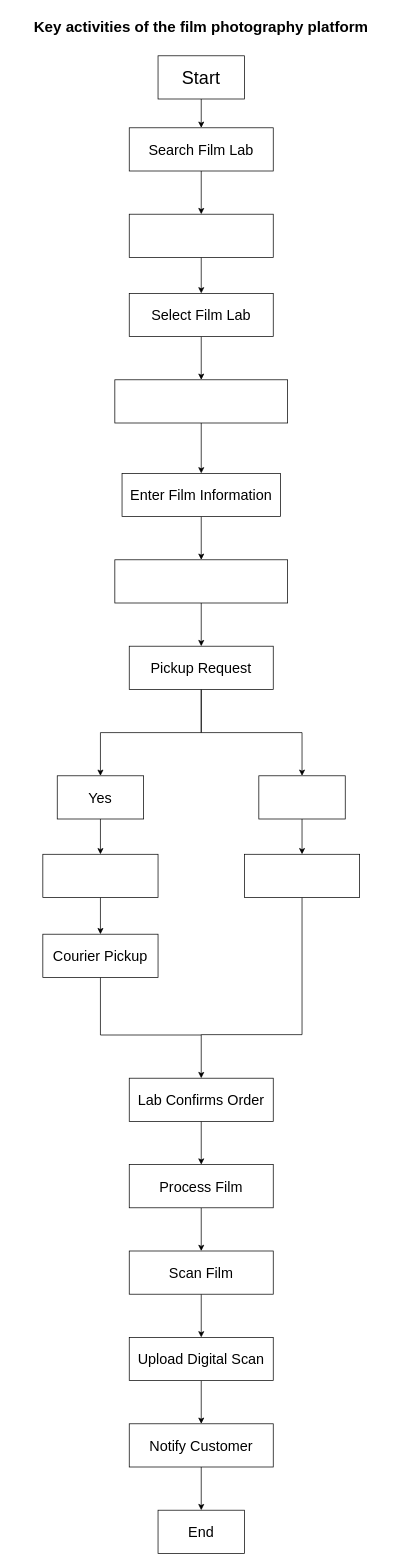
Image size: 402x1566. Some labels were removed from this diagram. The shapes that lost their labels are listed below. From the top down, each one's box as (x1, y1, x2, y2) in pixels, then its label:
(129, 213, 273, 257): View Lab Information
(114, 379, 288, 423): Select Service Package
(114, 559, 288, 603): Choose Delivery Method
(258, 775, 345, 819): No
(42, 854, 158, 897): Request Pickup
(244, 854, 360, 897): Send Directly
